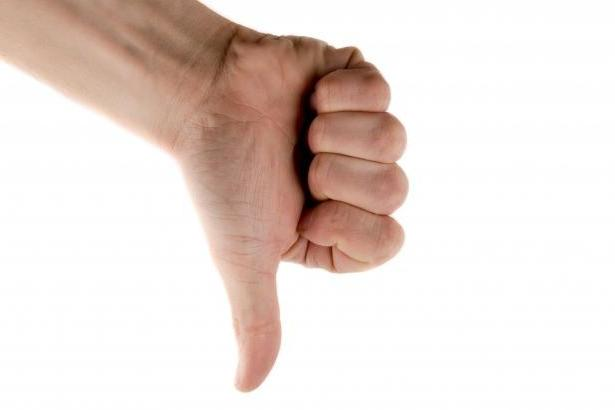thumbsdown: (232, 38, 410, 395)
